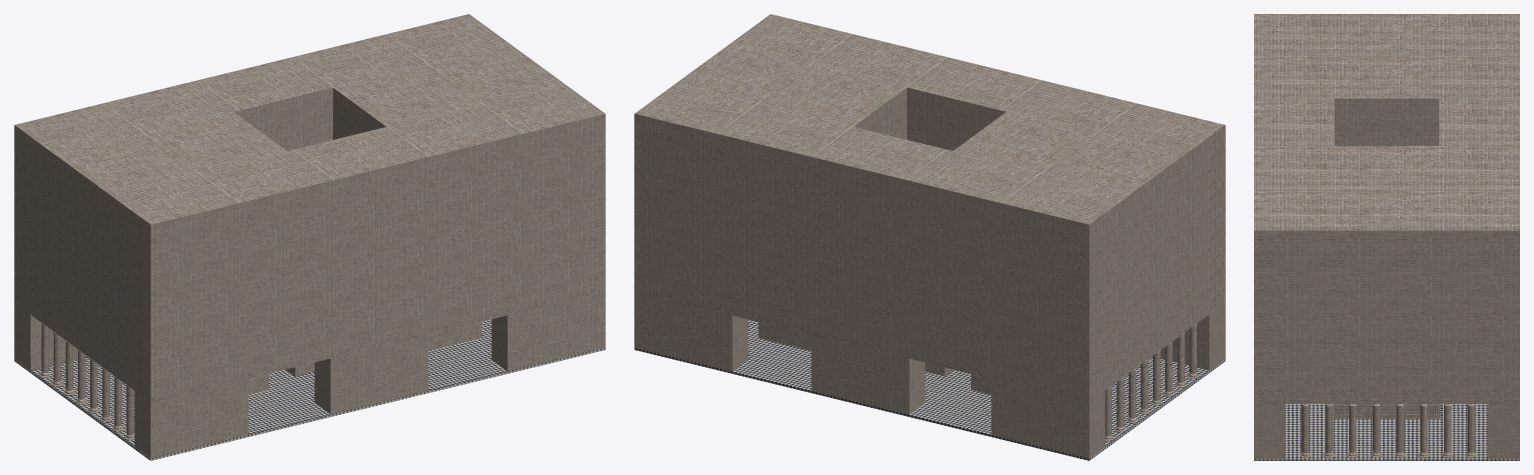
The model's file is straftat map-1.fbx.
The picture shows the model from 3 angles, left to right: view 1: azimuth 30°, elevation 25°; view 2: azimuth 150°, elevation 25°; view 3: azimuth 270°, elevation 25°; orthographic projection. The views are drawn at different scales.
Visible parts, largest first — view 1: Cube.003, Cube, Cube.007, Cube.005, Cube.006, Cylinder.002, Cube.011, Cube.001; view 2: Cube.003, Cube, Cube.011, Cube.004, Cube.008, Cylinder.002, Cube.007, Cube.001; view 3: Cube.003, Cube, Cylinder, Cube.006, Cube.008, Cube.001.
Boxes of the visible parts, box(x1,y1,x2,y2) form: Cube.003: box(14, 14, 605, 402); Cube: box(14, 319, 605, 460); Cube.007: box(134, 378, 248, 458); Cube.005: box(314, 334, 428, 414); Cube.006: box(491, 291, 605, 371); Cylinder.002: box(39, 323, 134, 440); Cube.011: box(14, 303, 87, 370); Cube.001: box(428, 322, 481, 350); Cube.003: box(634, 14, 1225, 402); Cube: box(634, 319, 1225, 460); Cube.011: box(991, 378, 1105, 458); Cube.004: box(811, 334, 925, 414); Cube.008: box(634, 291, 748, 371); Cylinder.002: box(1105, 324, 1199, 441); Cube.007: box(1152, 303, 1225, 370); Cube.001: box(758, 322, 811, 350); Cube.003: box(1254, 14, 1519, 403); Cube: box(1254, 404, 1519, 460); Cylinder: box(1299, 404, 1477, 458); Cube.006: box(1254, 404, 1285, 458); Cube.008: box(1488, 404, 1519, 458); Cube.001: box(1333, 404, 1440, 419).
Bounding box in the file's own units: 47.13 × 23.39 × 24.46.
Materials: 8 (8 with a texture image).
